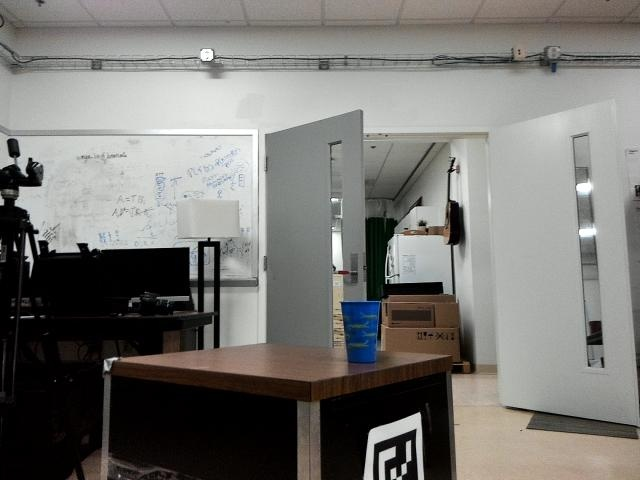water_cup: (336, 296, 383, 367)
